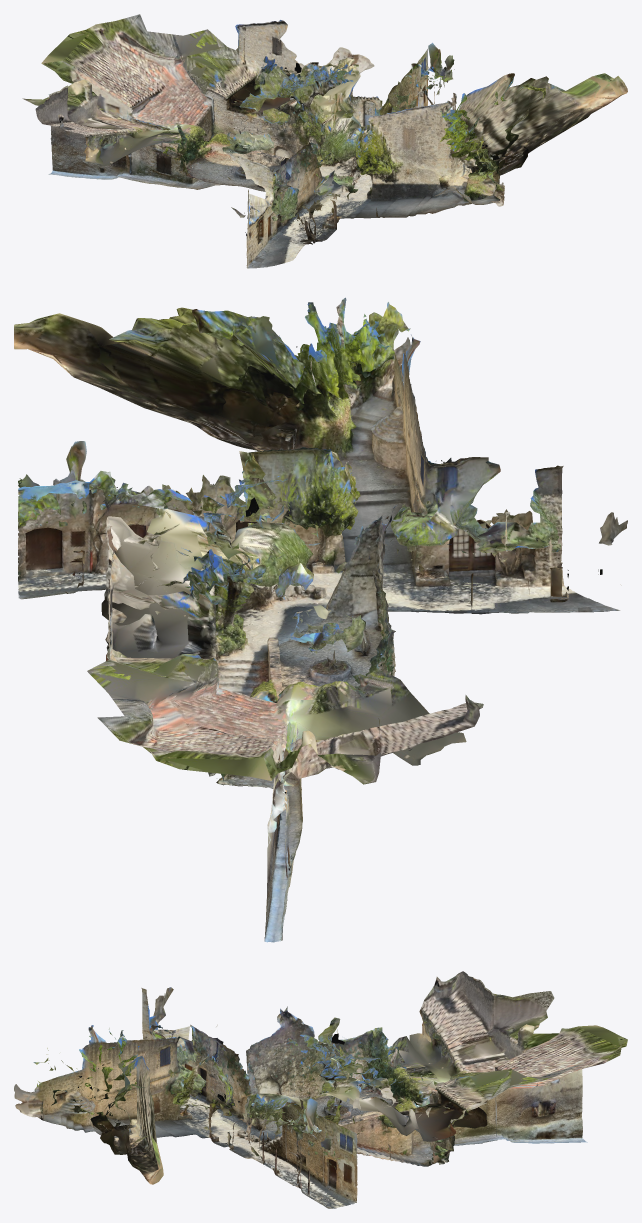
Rendered from medium.glb.
3 renders of one model, top to bottom at view 1: azimuth 30°, elevation 25°; view 2: azimuth 150°, elevation 25°; view 3: azimuth 270°, elevation 25°, orthographic. The views are drawn at different scales.
Visible parts, largest first — view 1: medium.029; view 2: medium.029; view 3: medium.029.
Part boxes in pixels (x1=…): medium.029: x1=22, y1=14, x2=627, y2=268; medium.029: x1=14, y1=297, x2=627, y2=942; medium.029: x1=14, y1=971, x2=627, y2=1208.
Bounding box in the file's own units: 32.17 × 13.95 × 36.4.
Materials: 1 (1 with a texture image).
